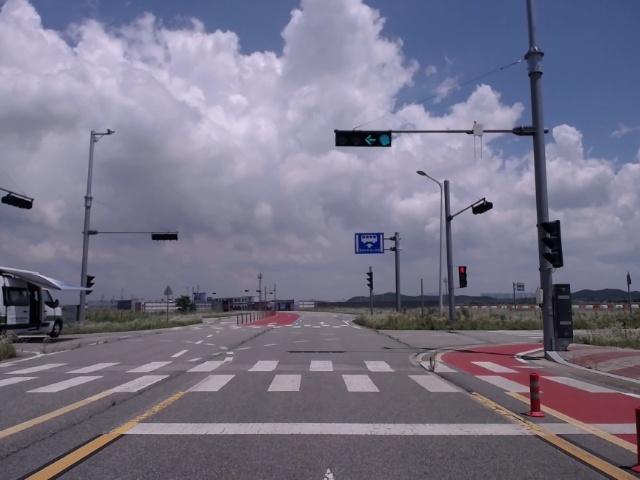all_green_4: (331, 130, 397, 149)
